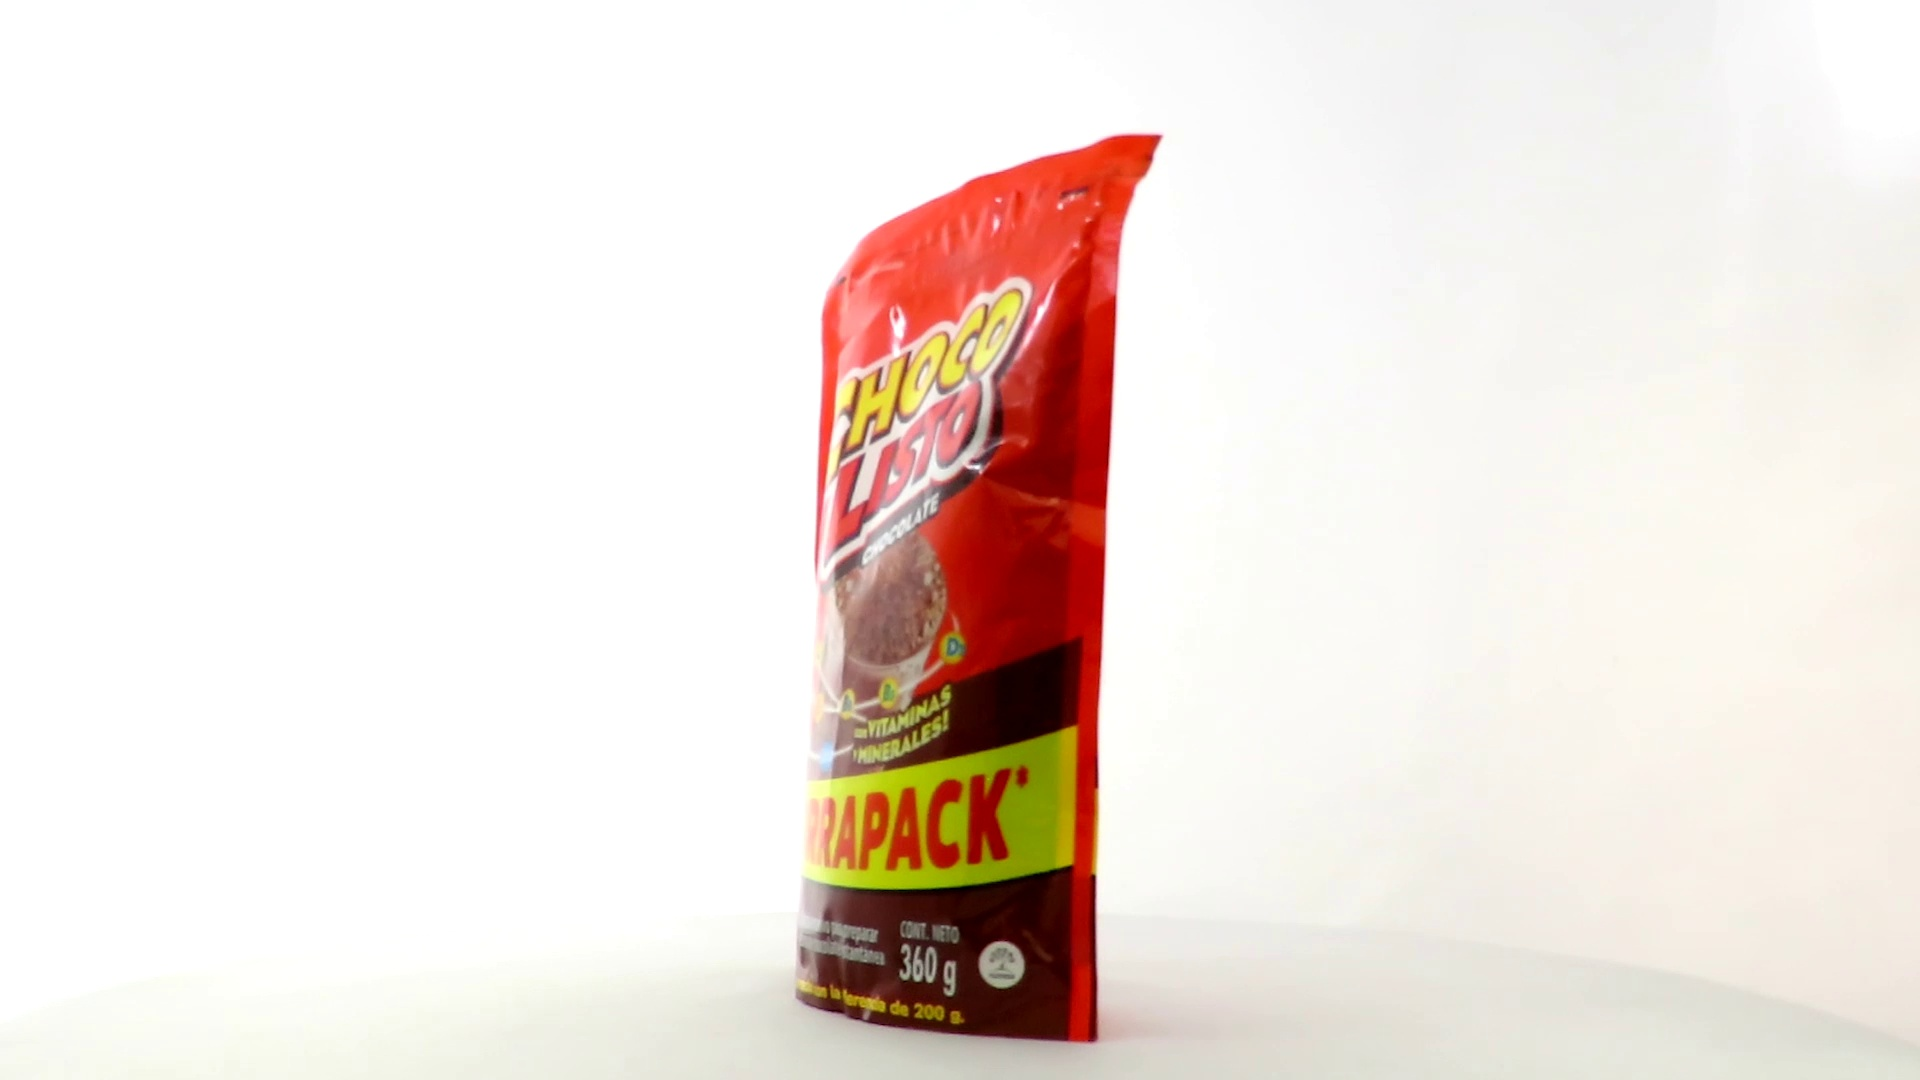COL0170103DYP36000: (790, 129, 1168, 1048)
